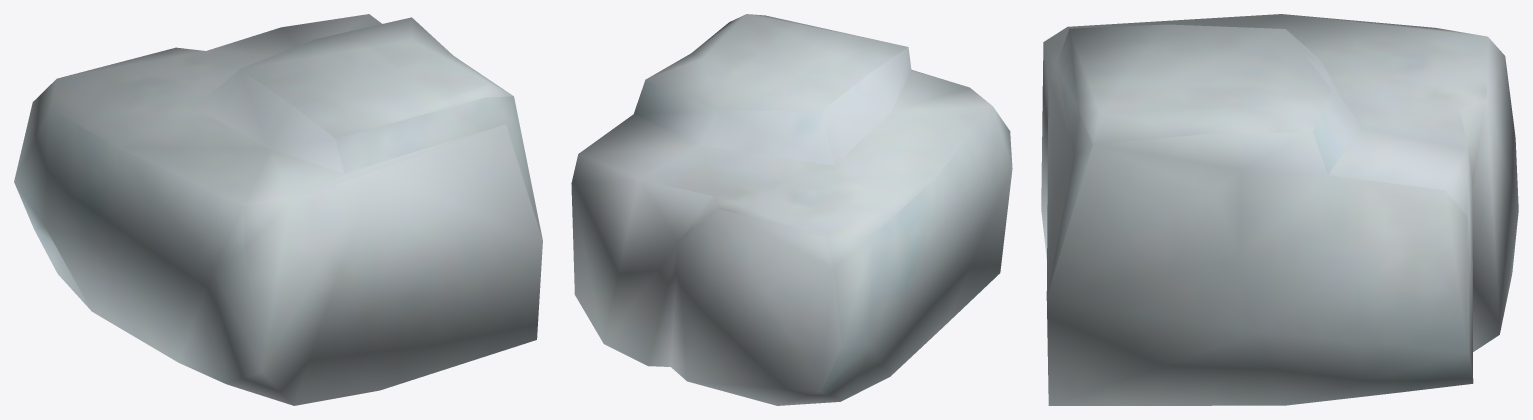
File: P_RockCubic08.obj
3 renders of one model, left to right at view 1: azimuth 30°, elevation 25°; view 2: azimuth 150°, elevation 25°; view 3: azimuth 270°, elevation 25°, orthographic. The views are drawn at different scales.
Size of the model in its own units: 3.15 by 2.38 by 3.53.
